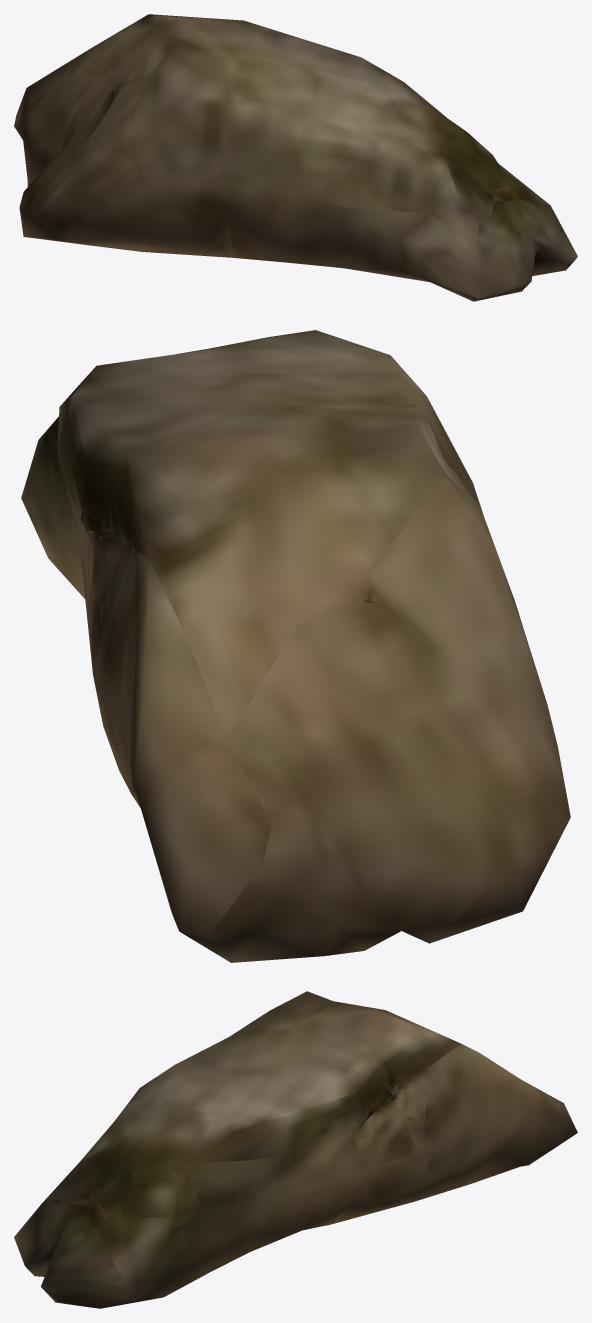
The picture shows the model from 3 angles, top to bottom: view 1: azimuth 30°, elevation 25°; view 2: azimuth 150°, elevation 25°; view 3: azimuth 270°, elevation 25°; orthographic projection. The views are drawn at different scales.
Parts seen in each view (by area): view 1: rock_moss_set_01__b_lod2; view 2: rock_moss_set_01__b_lod2; view 3: rock_moss_set_01__b_lod2.
Boxes of the visible parts, left/top/right/bottom form: rock_moss_set_01__b_lod2: left=14, top=14, right=577, bottom=301; rock_moss_set_01__b_lod2: left=21, top=330, right=570, bottom=962; rock_moss_set_01__b_lod2: left=14, top=991, right=577, bottom=1308.
Size of the model in its own units: 2.6 by 1.24 by 3.23.
1 material, 1 textured.
